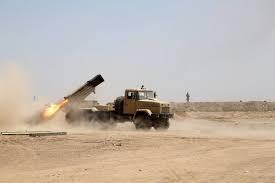MIL_SAM_TEL: (64, 72, 174, 132)
